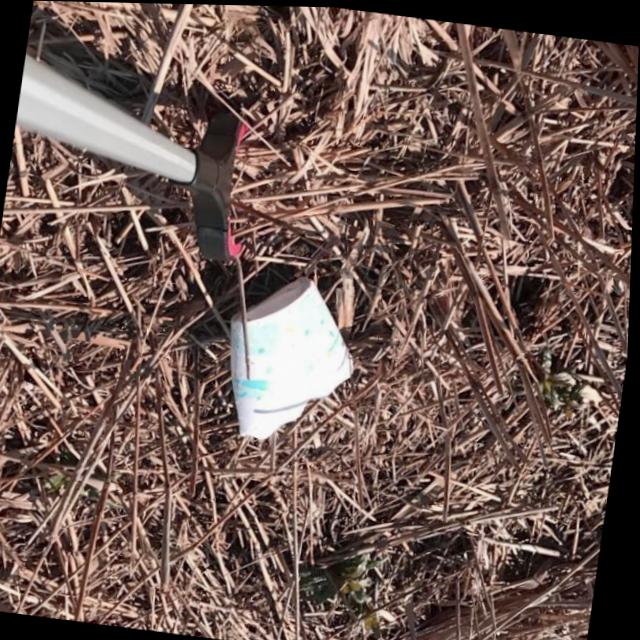Paper: (213, 263, 369, 451)
